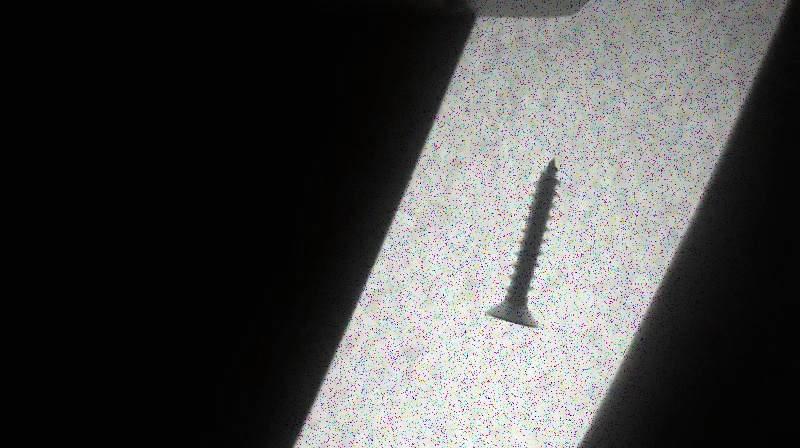S001: (480, 152, 565, 333)
